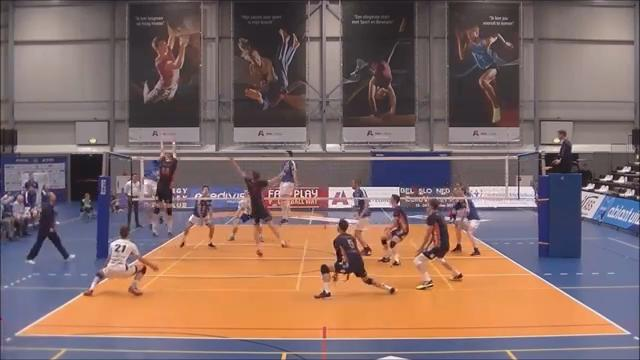attacco: (140, 159, 161, 220)
muro: (228, 154, 292, 259), (146, 133, 178, 239)
